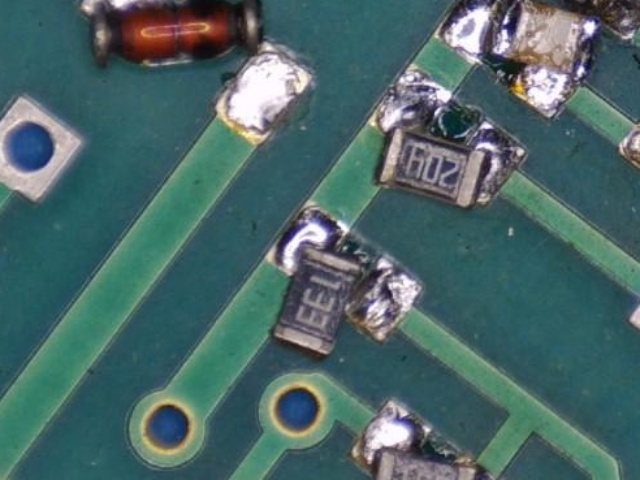pcb_defect: (261, 197, 425, 358), (365, 62, 529, 210), (434, 0, 602, 123), (346, 396, 509, 480), (128, 480, 250, 480)
